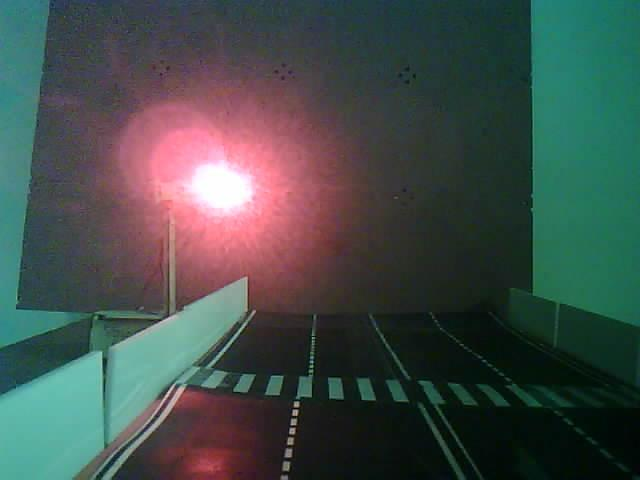crosswalk: (169, 348, 634, 421)
red: (139, 159, 278, 329)
